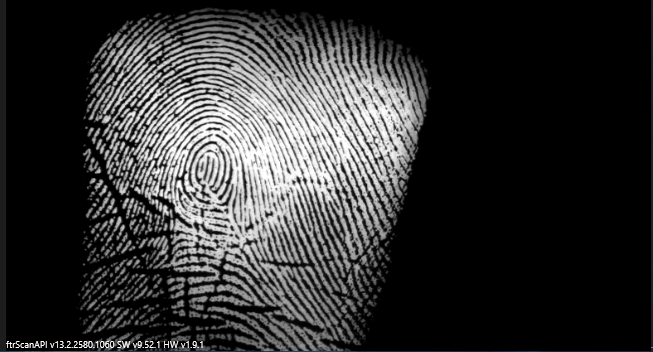nucelo: (188, 138, 223, 198)
verticilo: (161, 212, 183, 242), (217, 200, 241, 222)
